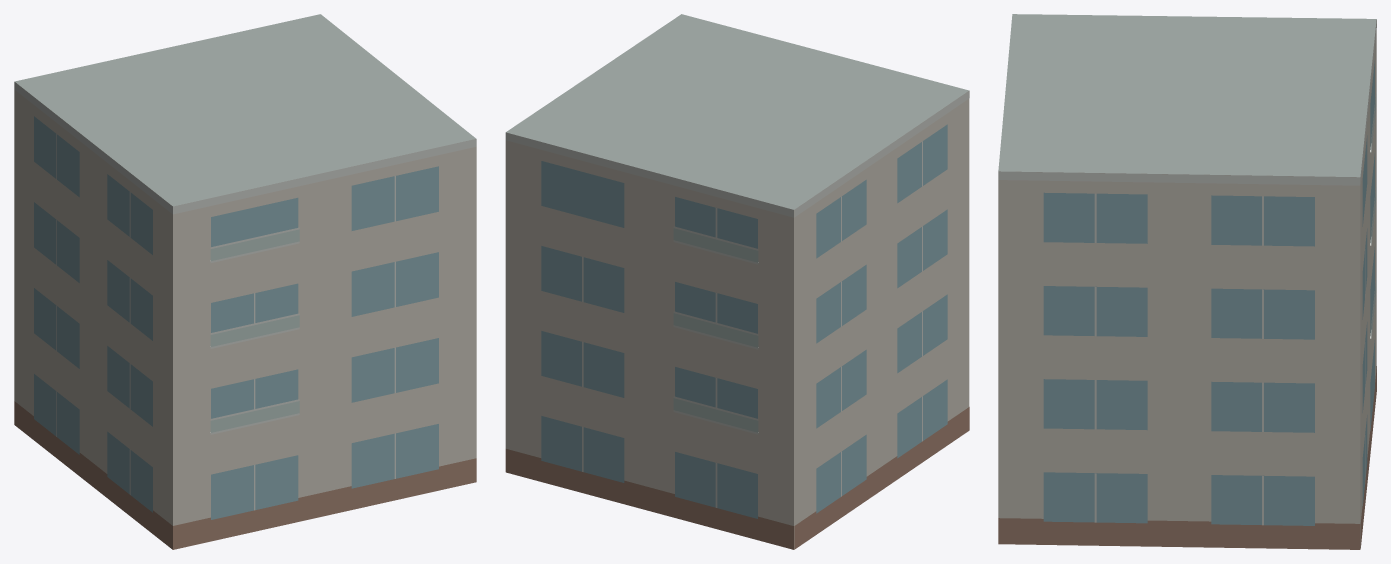
The model's file is survey-upis-32808392.glb.
3 views of the same model, side by side, from view 1: azimuth 30°, elevation 25°; view 2: azimuth 150°, elevation 25°; view 3: azimuth 270°, elevation 25° (orthographic). The views are drawn at different scales.
Parts seen in each view (by area): view 1: survey-upis-32808392.tmp; view 2: survey-upis-32808392.tmp; view 3: survey-upis-32808392.tmp.
Boxes of the visible parts, x1=… form: survey-upis-32808392.tmp: x1=14, y1=14, x2=476, y2=549; survey-upis-32808392.tmp: x1=505, y1=14, x2=969, y2=549; survey-upis-32808392.tmp: x1=998, y1=14, x2=1376, y2=549.
Size of the model in its own units: 9.93 by 10.57 by 9.74.
